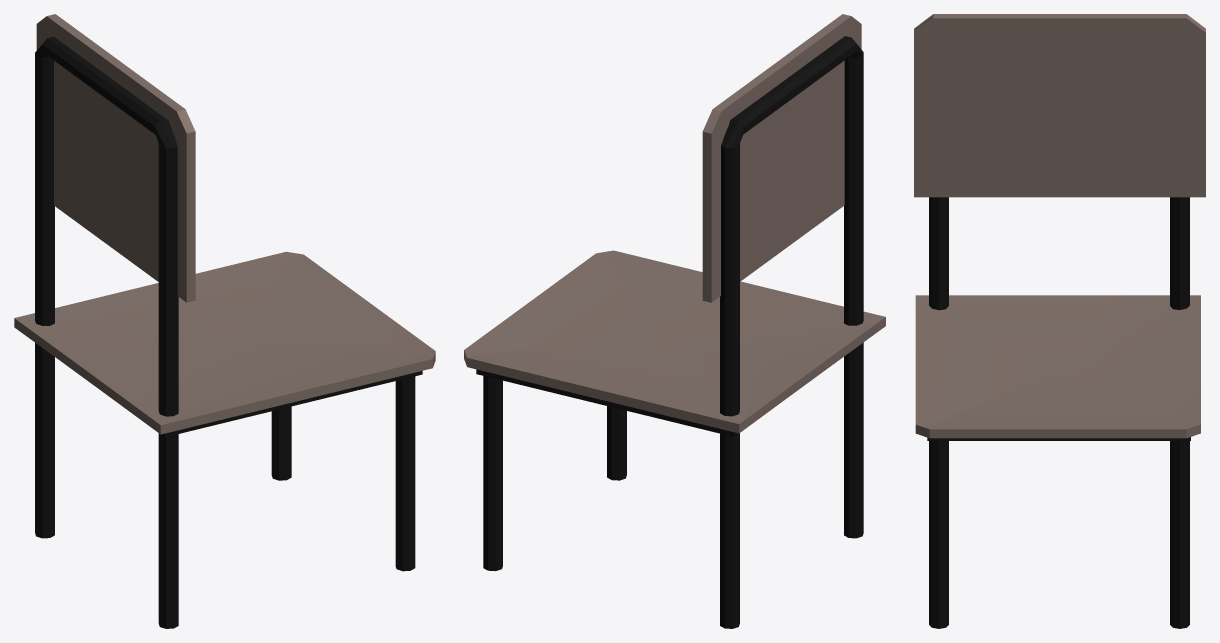
Rendered from Elements_Chair-prof.fbx.
3 views of the same model, side by side, from view 1: azimuth 30°, elevation 25°; view 2: azimuth 150°, elevation 25°; view 3: azimuth 270°, elevation 25° (orthographic). The views are drawn at different scales.
Parts seen in each view (by area): view 1: Seat, BackSeat, BackLegs, FrontLeg_2, FrontLeg_1, Leg_Support; view 2: Seat, BackSeat, BackLegs, FrontLeg_1, FrontLeg_2, Leg_Support; view 3: BackSeat, Seat, BackLegs, FrontLeg_1, FrontLeg_2, Leg_Support.
Boxes of the visible parts, x1,y1,x2,y2 form: Seat: [14, 251, 435, 434]; BackSeat: [36, 14, 195, 302]; BackLegs: [35, 36, 178, 628]; FrontLeg_2: [395, 376, 415, 571]; FrontLeg_1: [271, 406, 291, 480]; Leg_Support: [161, 371, 422, 437]; Seat: [464, 250, 885, 433]; BackSeat: [702, 14, 861, 302]; BackLegs: [720, 36, 863, 628]; FrontLeg_1: [483, 376, 502, 571]; FrontLeg_2: [607, 406, 626, 480]; Leg_Support: [476, 369, 738, 436]; BackSeat: [914, 14, 1205, 197]; Seat: [915, 295, 1200, 438]; BackLegs: [929, 197, 1189, 310]; FrontLeg_1: [1170, 441, 1189, 628]; FrontLeg_2: [929, 441, 948, 628]; Leg_Support: [927, 437, 1190, 440].
Size of the model in its own units: 1.04 by 1.82 by 0.9594.
Materials: 2 (1 with a texture image).
